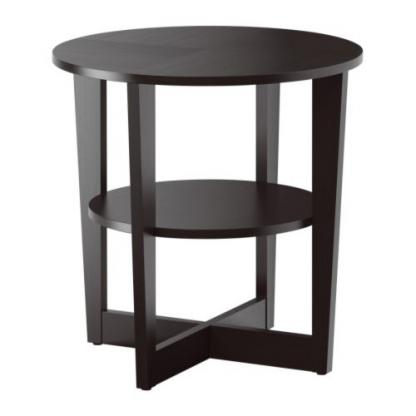Table: (47, 18, 368, 396)
